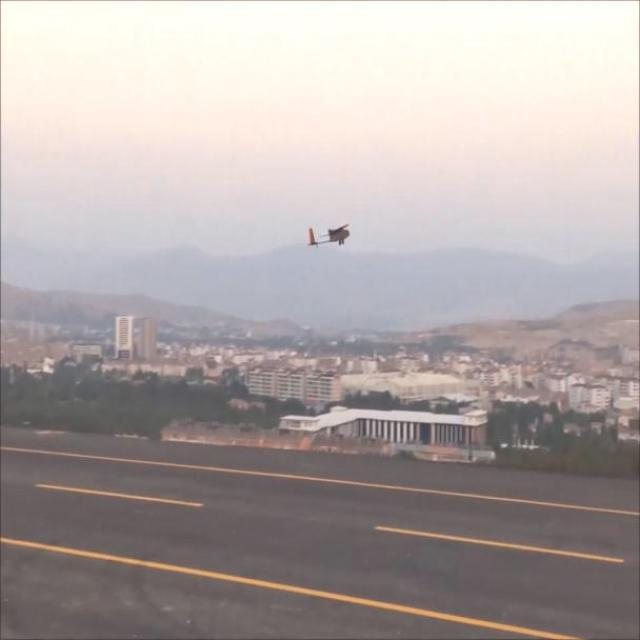iha: (294, 216, 350, 251)
